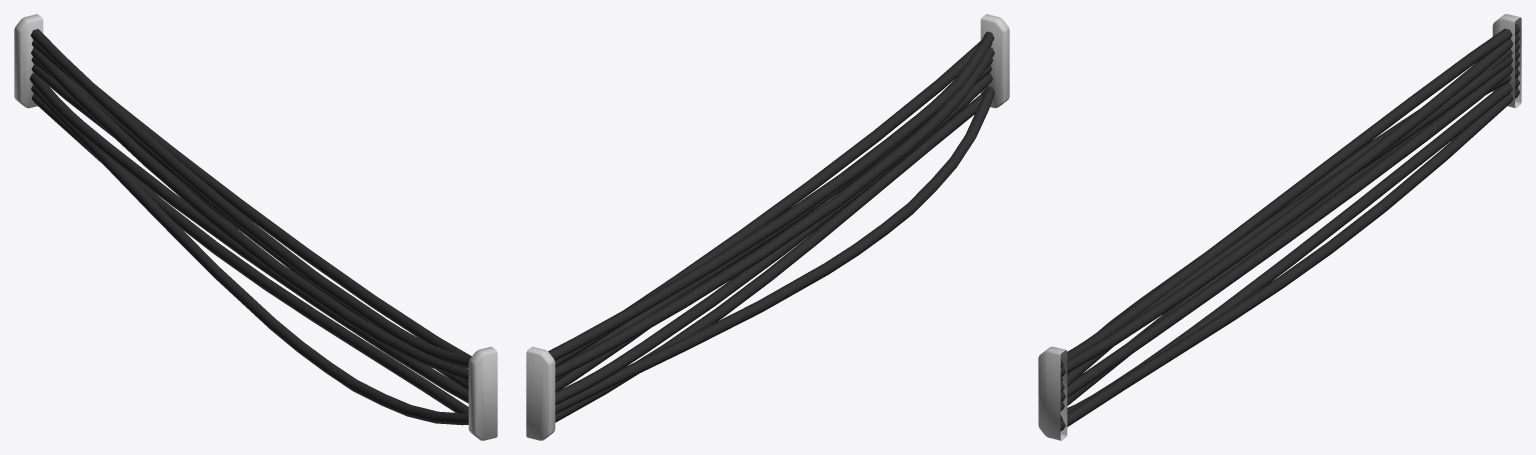
File: SM_WiresWall_B.FBX
3 views of the same model, side by side, from view 1: azimuth 30°, elevation 25°; view 2: azimuth 150°, elevation 25°; view 3: azimuth 330°, elevation 25° (orthographic).
Visible parts, largest first — view 1: SM_WiresWall_B; view 2: SM_WiresWall_B; view 3: SM_WiresWall_B.
Boxes of the visible parts, <box> form: SM_WiresWall_B: <box>14,14,497,440</box>; SM_WiresWall_B: <box>526,14,1009,440</box>; SM_WiresWall_B: <box>1038,14,1521,440</box>.
Size of the model in its own units: 39.66 by 108 by 800.
